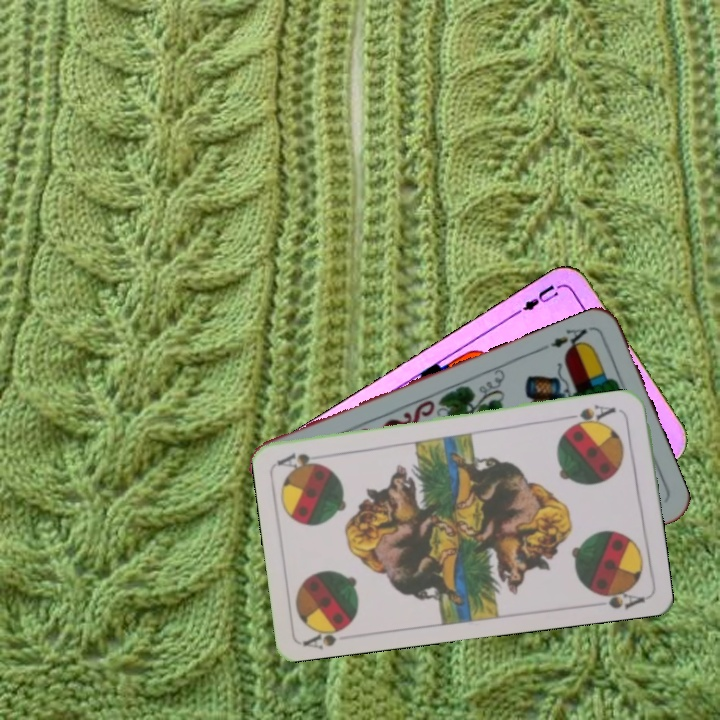EA: (546, 322, 595, 356)
EU: (513, 279, 566, 317)
SA: (300, 618, 356, 651), (563, 400, 618, 431)
